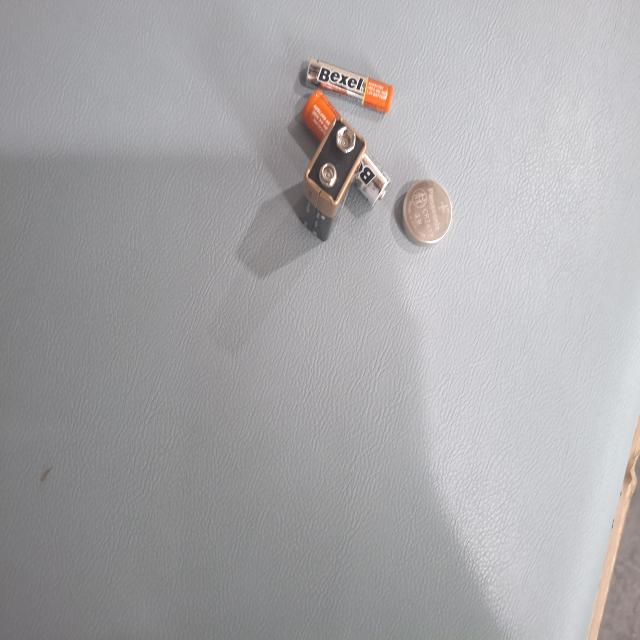9V: (86, 365, 181, 455)
AA: (69, 334, 157, 452)
AAA: (42, 328, 86, 451)
COIN: (134, 250, 182, 318)
